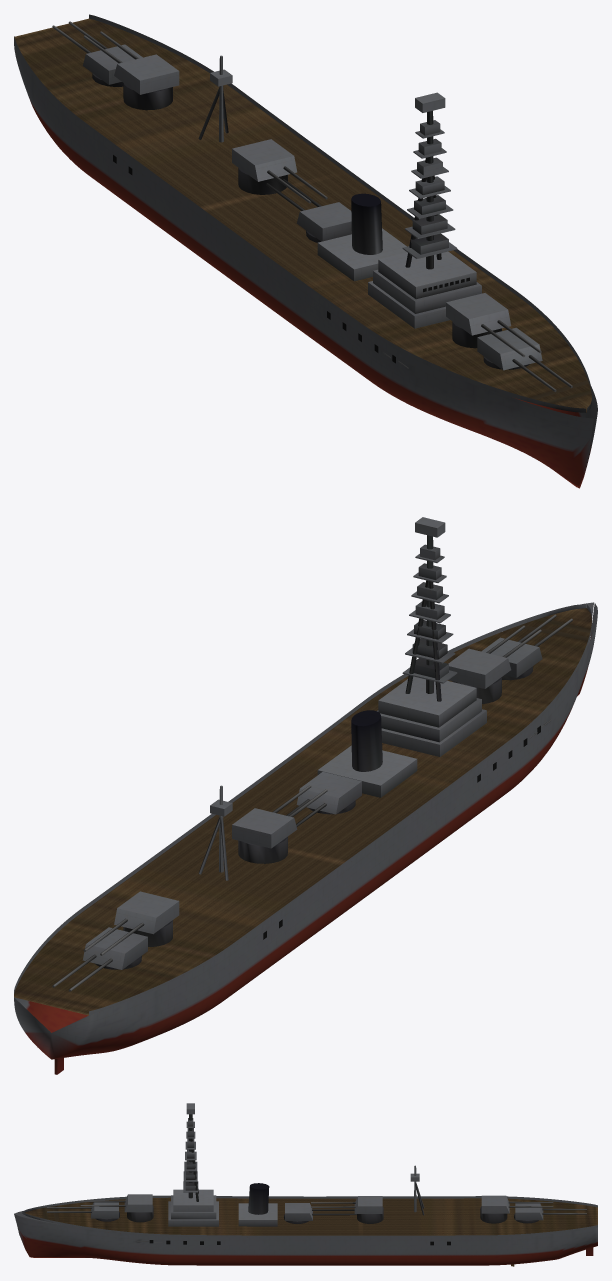
The model's file is model_built.glb.
The picture shows the model from 3 angles, top to bottom: view 1: azimuth 30°, elevation 25°; view 2: azimuth 150°, elevation 25°; view 3: azimuth 270°, elevation 25°; orthographic projection. The views are drawn at different scales.
Visible parts, largest first — view 1: main; view 2: main; view 3: main.
Boxes of the visible parts, x1,y1,x2,y2 form: main: (14, 14, 597, 488); main: (14, 517, 597, 1074); main: (14, 1103, 597, 1266).
Bounding box in the file's own units: 33.26 × 59.61 × 208.
Materials: 2 (2 with a texture image).
